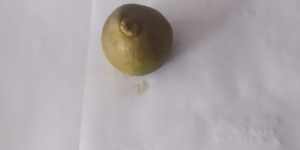BAD: (100, 4, 173, 75)
